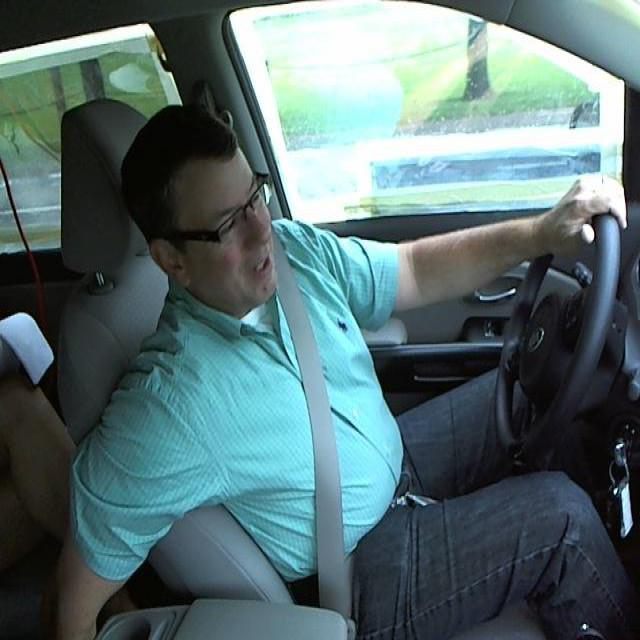seatbelt: (279, 277, 380, 623)
